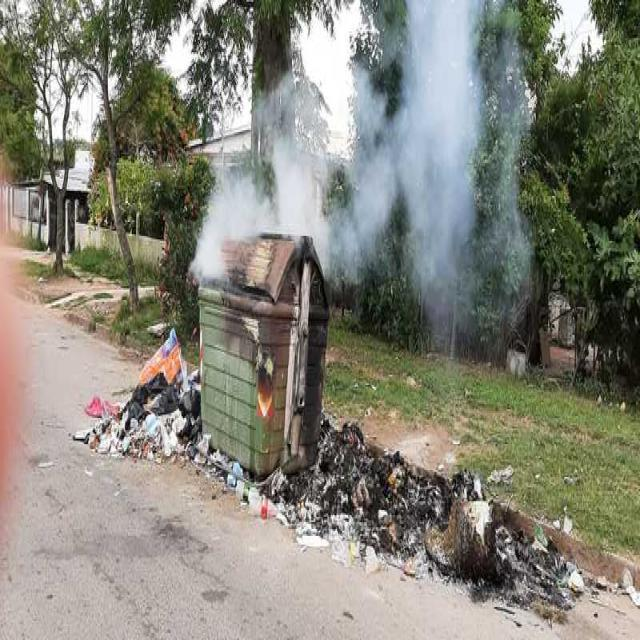garbage: (222, 414, 590, 626), (71, 326, 211, 476)
